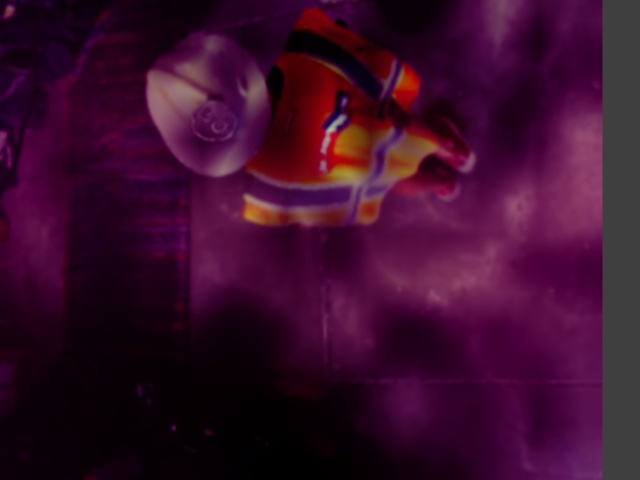three: (190, 94, 236, 141)
